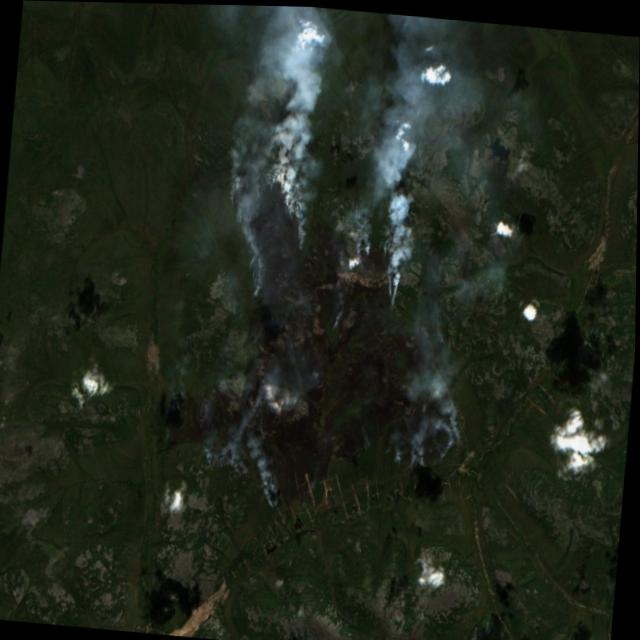fire: (154, 158, 484, 522)
